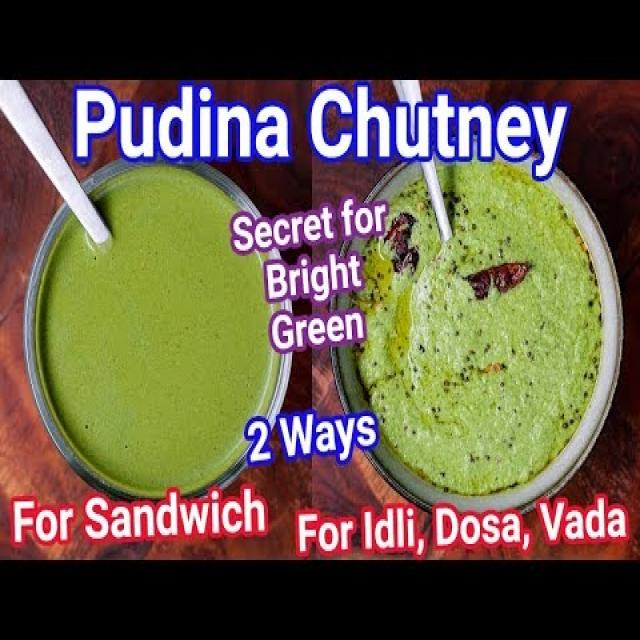puthina chutney: (374, 170, 602, 482)
